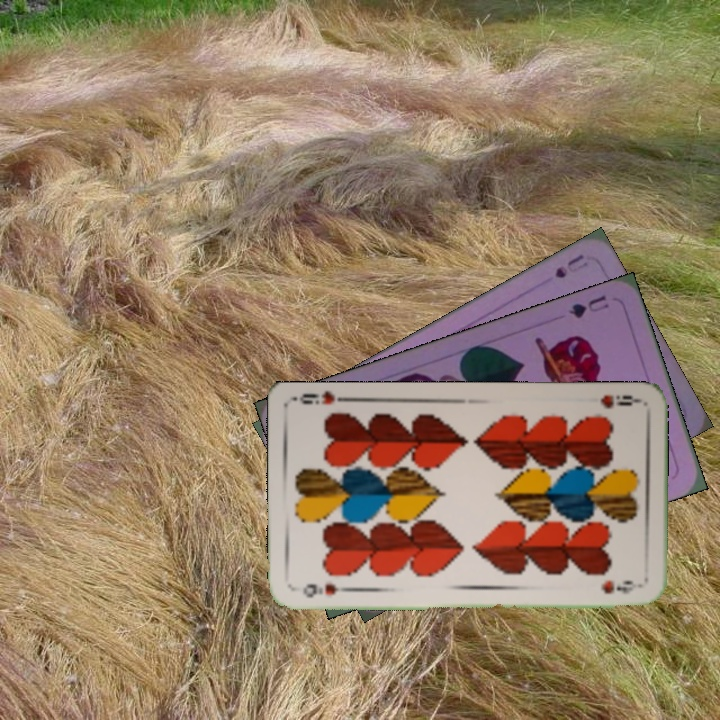GU: (564, 291, 612, 321)
H9: (298, 580, 351, 600), (596, 391, 641, 411)
SU: (551, 250, 591, 281)
